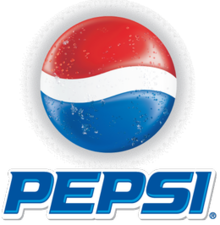pepsi: (33, 13, 183, 152), (39, 15, 183, 152), (39, 15, 176, 152), (0, 164, 215, 218), (0, 167, 215, 218), (0, 167, 215, 213)
